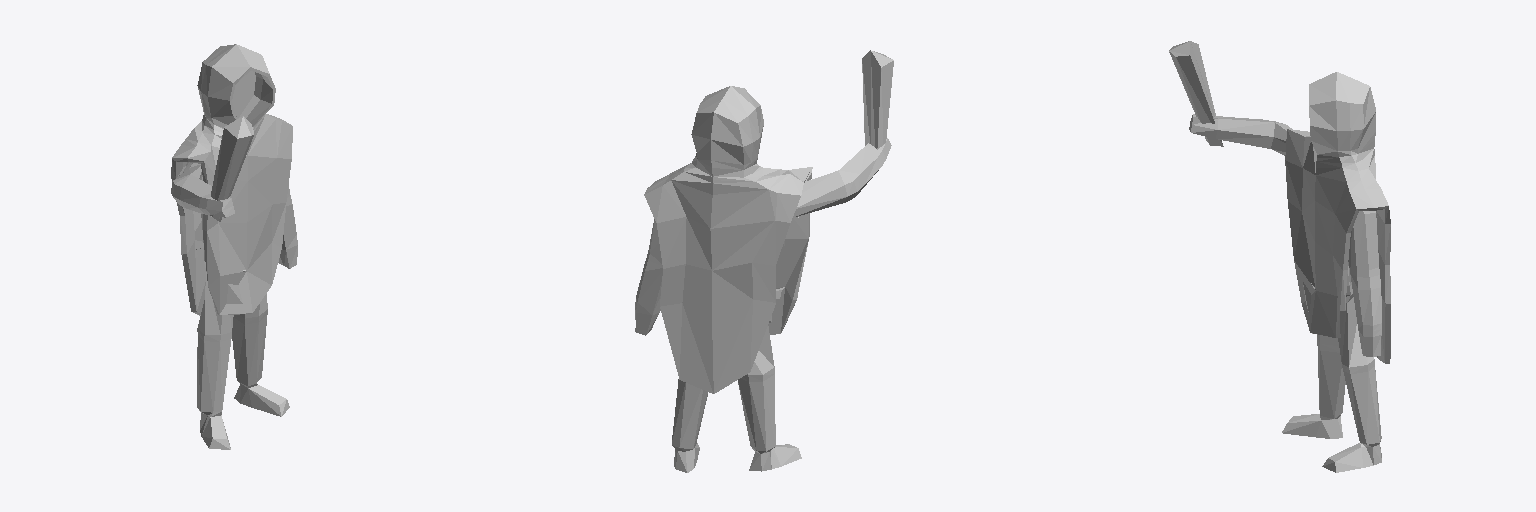
The model's file is Dude_Pose.obj.
The picture shows the model from 3 angles: view 1: azimuth 30°, elevation 25°; view 2: azimuth 150°, elevation 25°; view 3: azimuth 270°, elevation 25°; orthographic projection.
Parts seen in each view (by area): view 1: Dude.HOOD_Cube.001, Dude.BOD_Cube, Cube_Cube.002; view 2: Dude.HOOD_Cube.001, Dude.BOD_Cube, Cube_Cube.002; view 3: Dude.HOOD_Cube.001, Dude.BOD_Cube, Cube_Cube.002.
Boxes of the visible parts, x1=… form: Dude.HOOD_Cube.001: x1=171, y1=44, x2=292, y2=315; Dude.BOD_Cube: x1=171, y1=162, x2=297, y2=449; Cube_Cube.002: x1=210, y1=116, x2=253, y2=221; Dude.HOOD_Cube.001: x1=644, y1=86, x2=812, y2=393; Dude.BOD_Cube: x1=635, y1=138, x2=891, y2=472; Cube_Cube.002: x1=862, y1=50, x2=893, y2=149; Dude.HOOD_Cube.001: x1=1285, y1=72, x2=1390, y2=363; Dude.BOD_Cube: x1=1189, y1=114, x2=1381, y2=472; Cube_Cube.002: x1=1169, y1=41, x2=1223, y2=146.
Bounding box in the file's own units: 2.72 × 5.69 × 3.03.